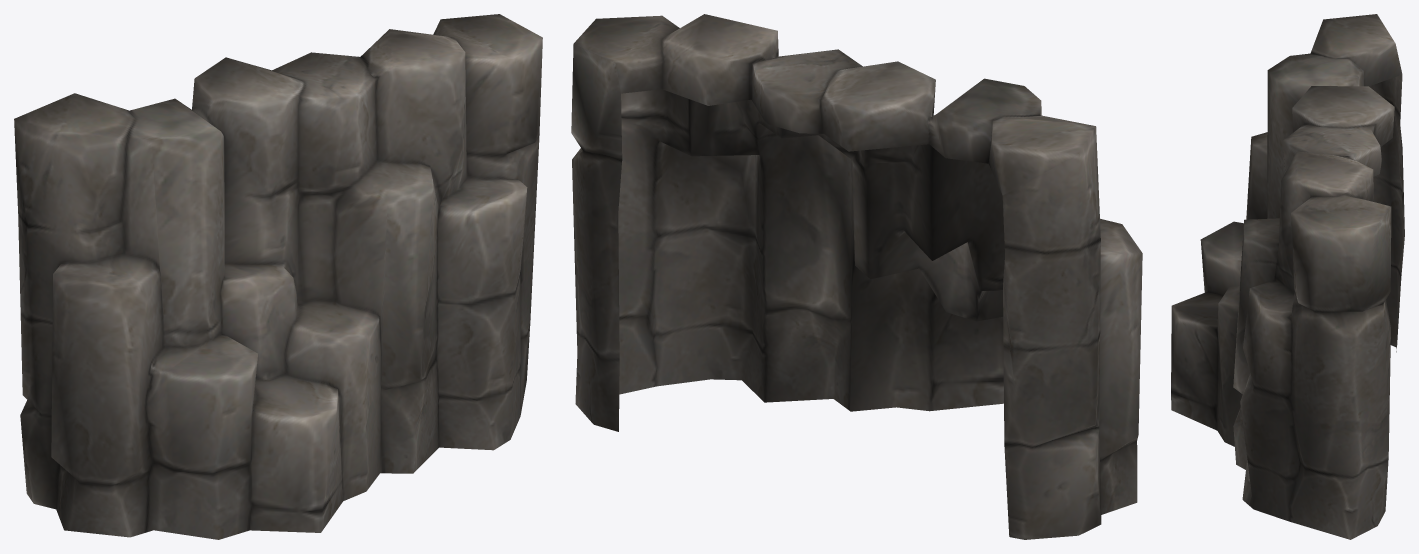
File: Cliff01.FBX
3 renders of one model, left to right at view 1: azimuth 30°, elevation 25°; view 2: azimuth 150°, elevation 25°; view 3: azimuth 270°, elevation 25°, orthographic. The views are drawn at different scales.
Parts seen in each view (by area): view 1: Cliff01; view 2: Cliff01; view 3: Cliff01.
Boxes of the visible parts, bbox=[...] form: Cliff01: bbox=[14, 14, 542, 539]; Cliff01: bbox=[571, 14, 1142, 539]; Cliff01: bbox=[1171, 14, 1404, 539].
Size of the model in its own units: 9.96 by 4.62 by 6.98.
